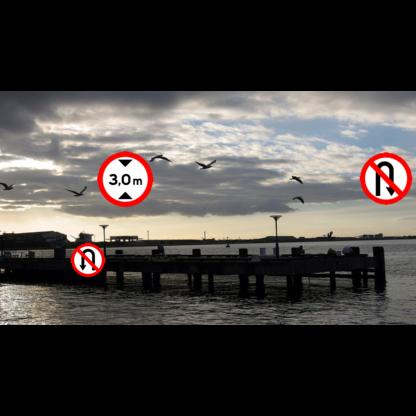R-15: (97, 151, 153, 207)
R-5a: (71, 243, 105, 277)
